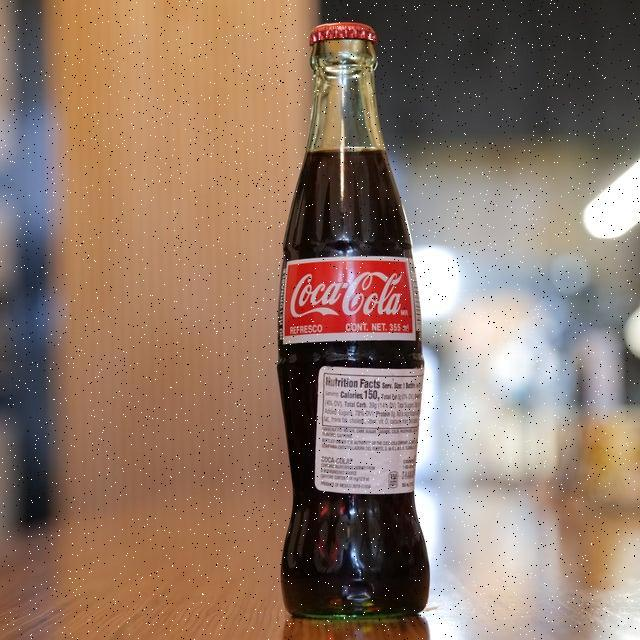coca-cola: (265, 12, 440, 622)
